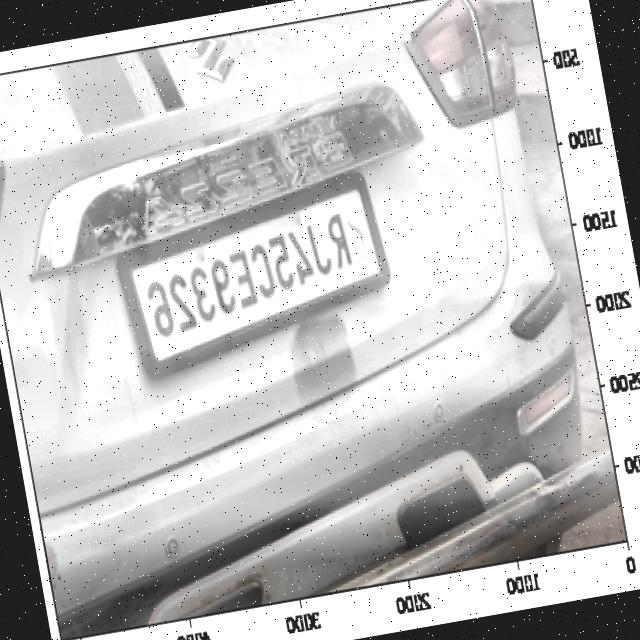license_plate: (130, 204, 375, 361)
